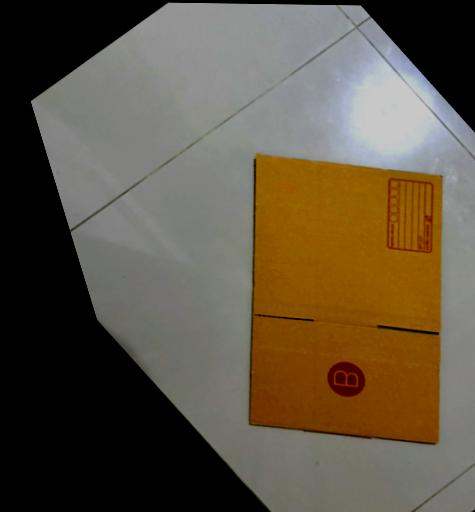box: (42, 73, 475, 512)
class0: (333, 159, 475, 272), (312, 354, 379, 405)
